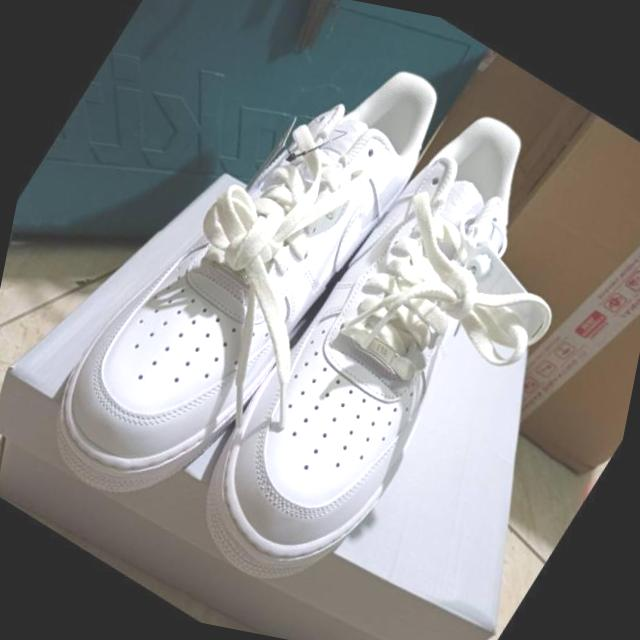nike_original_airforce: (10, 0, 471, 579), (157, 47, 602, 640)
